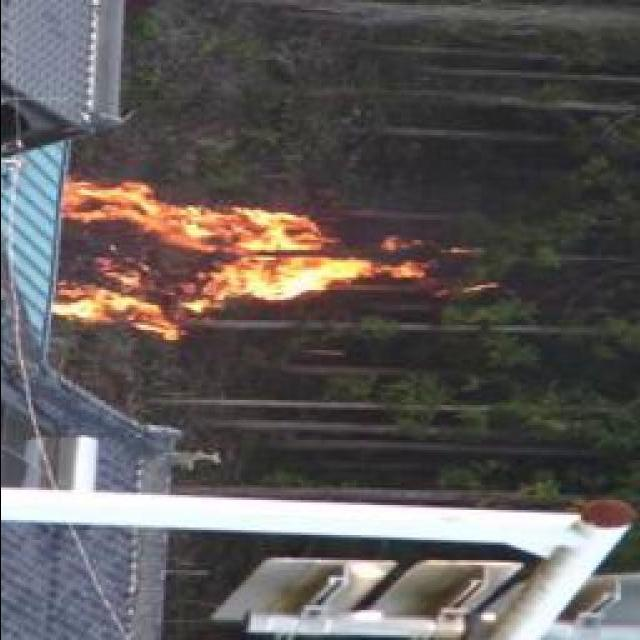Fire: (52, 182, 430, 334)
